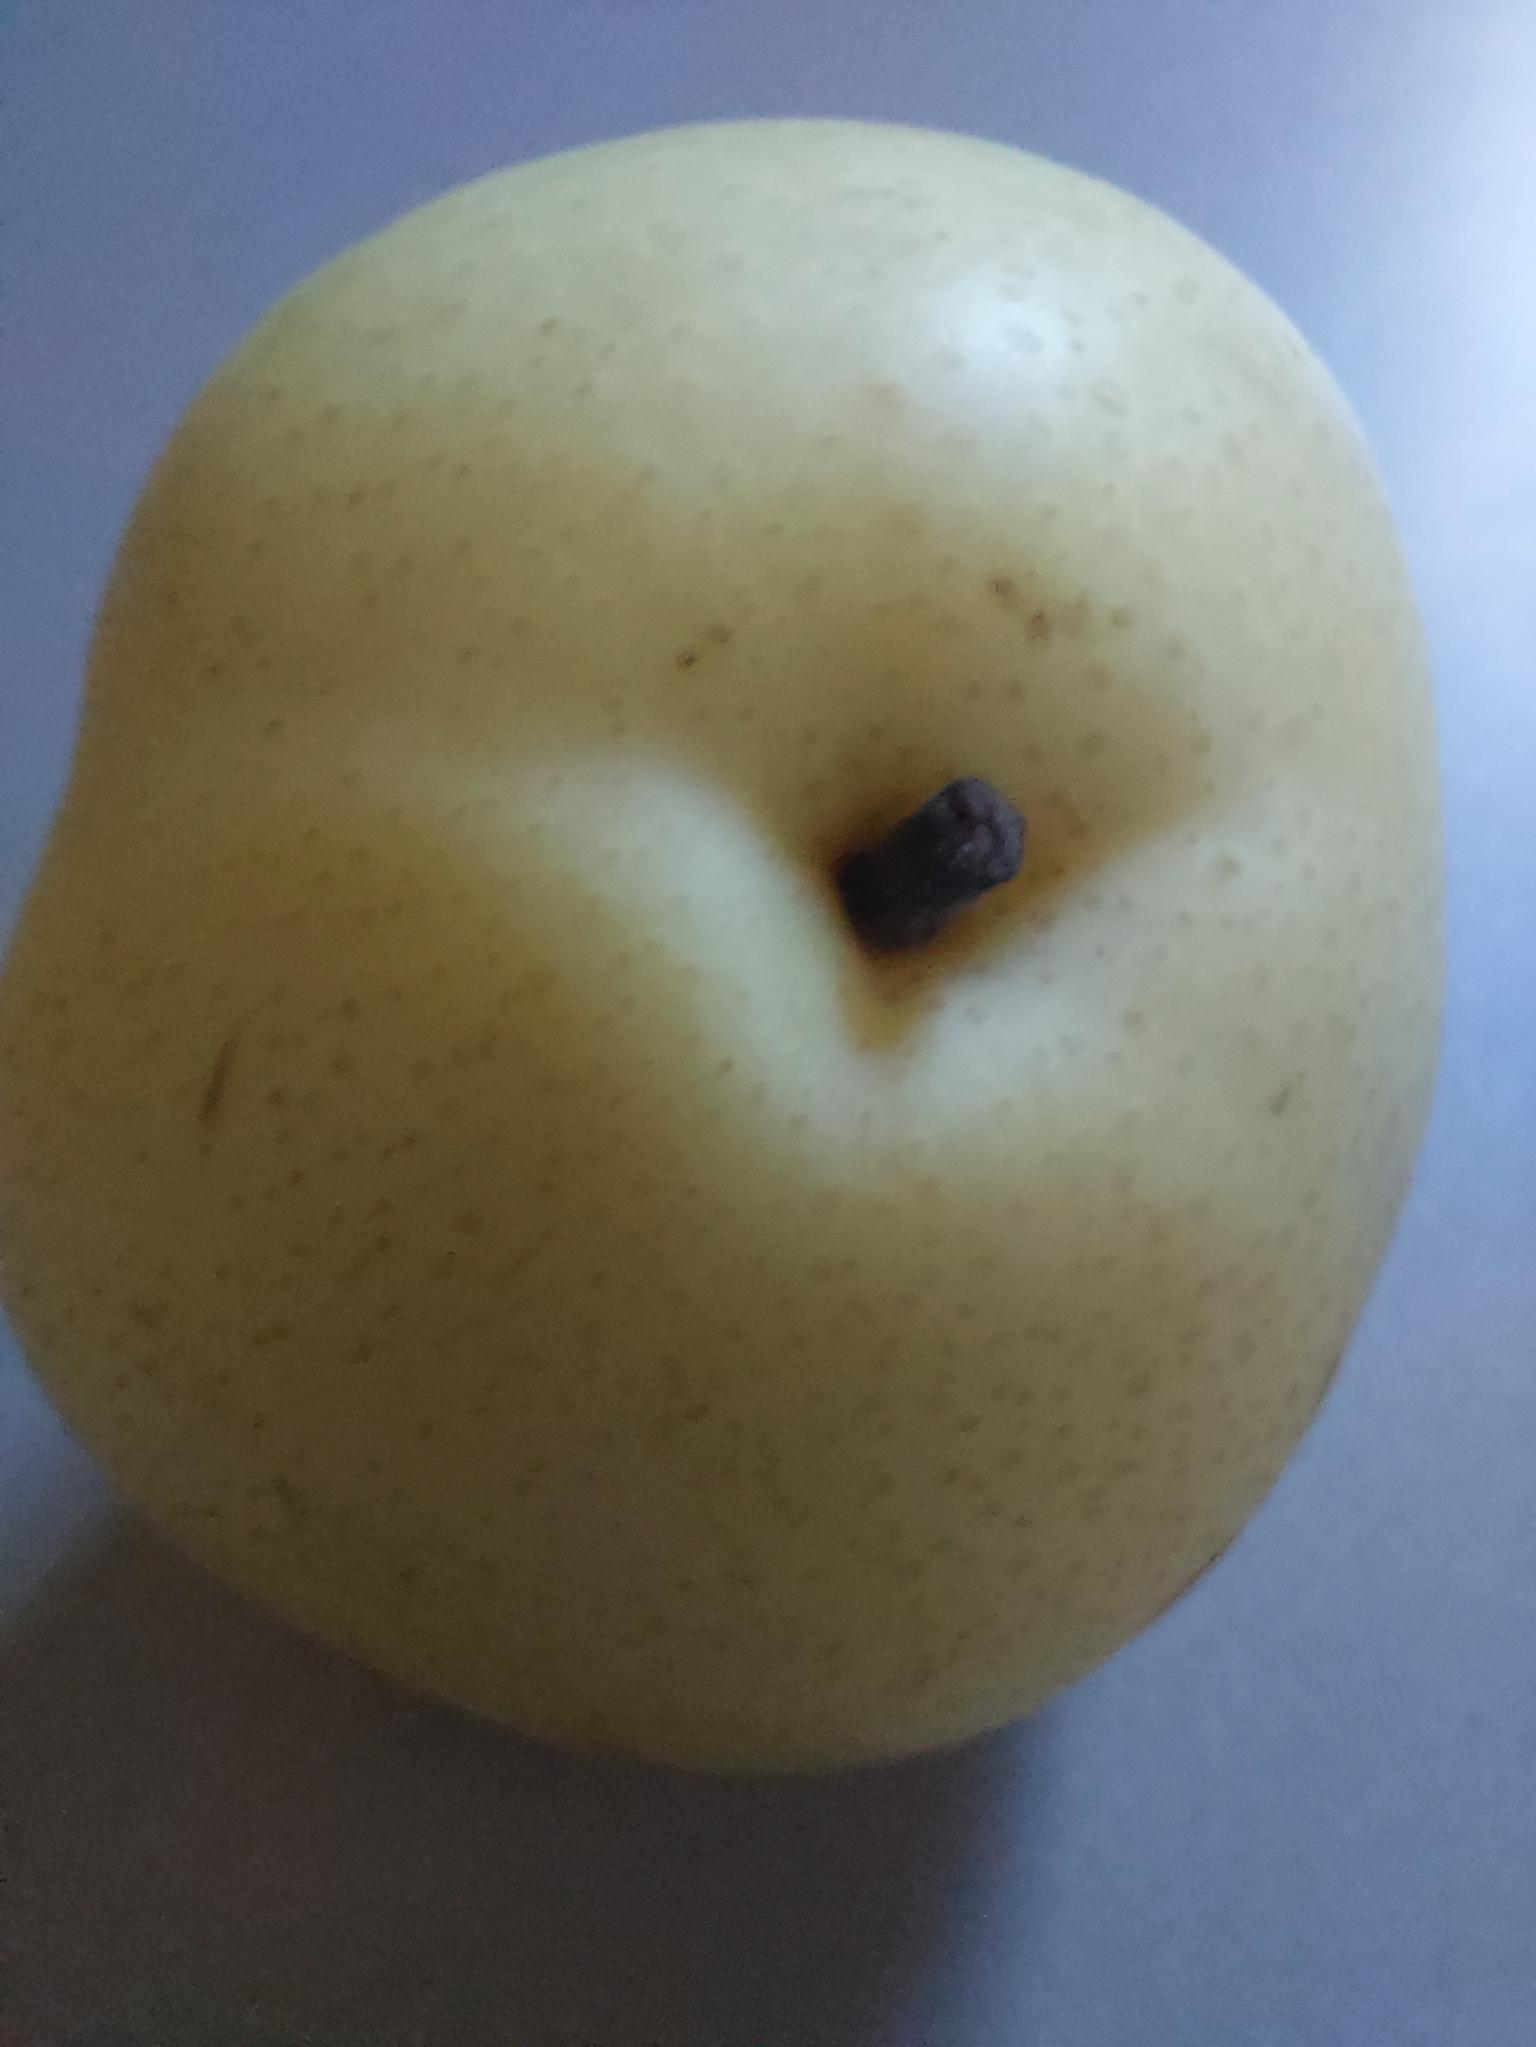Good Pear: (16, 81, 1536, 1849)
